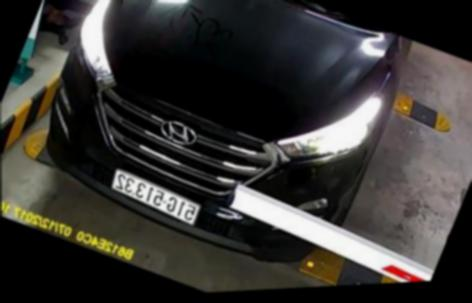License_Plate: (101, 167, 213, 231)
